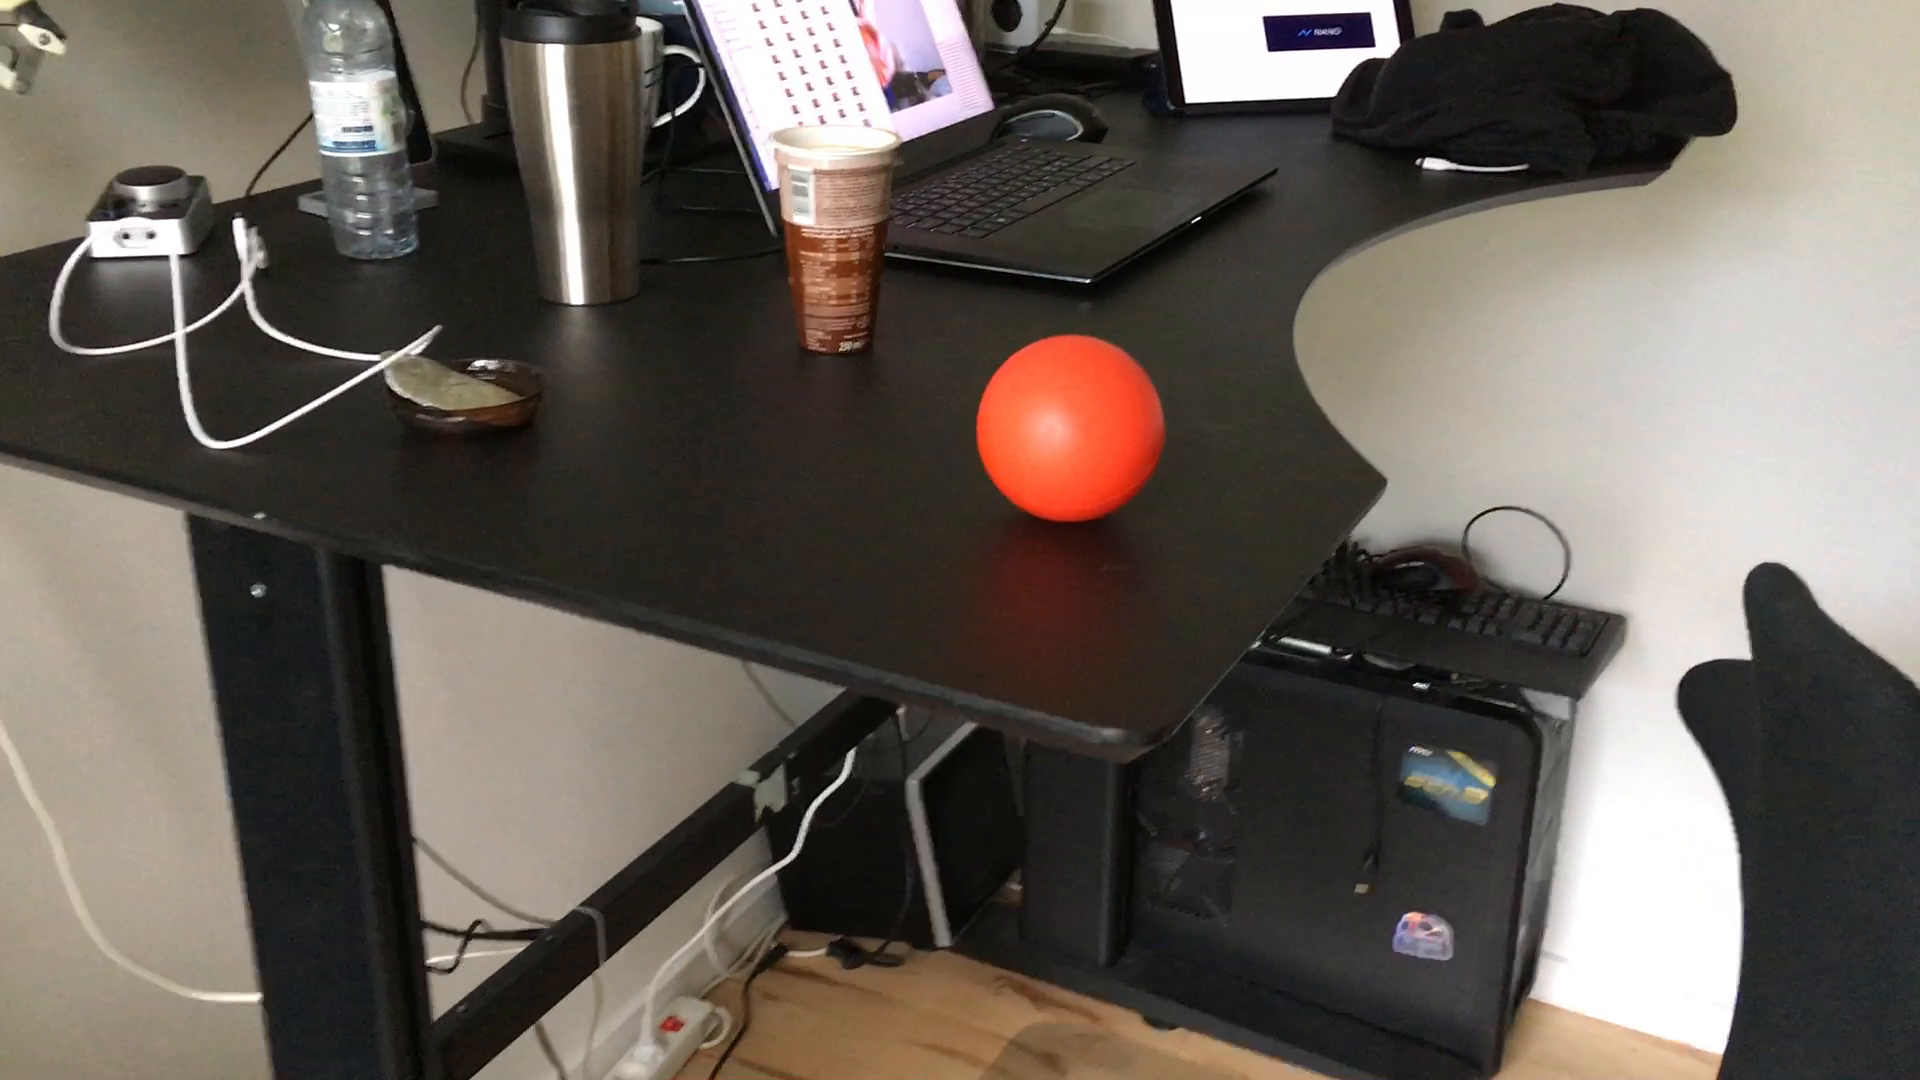Ball: (964, 332, 1168, 524)
